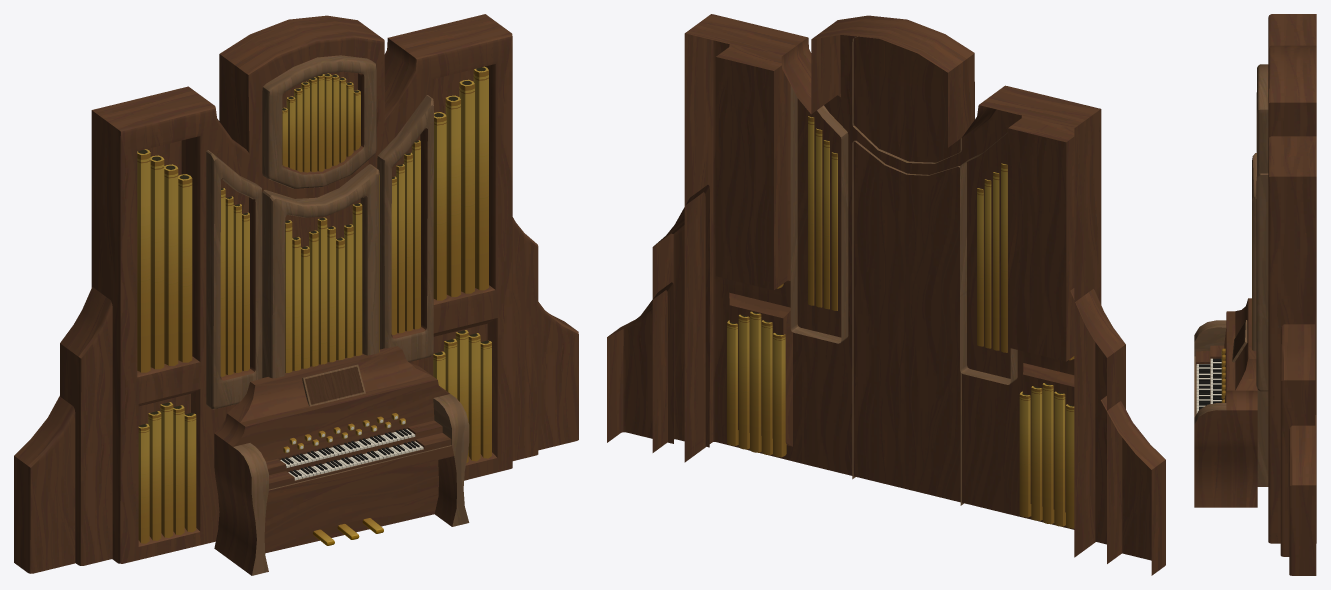
File: organ.glb
The picture shows the model from 3 angles, left to right: view 1: azimuth 30°, elevation 25°; view 2: azimuth 150°, elevation 25°; view 3: azimuth 270°, elevation 25°; orthographic projection. The views are drawn at different scales.
Visible parts, largest first — view 1: Organ_Pipes, Organ_Keyboard; view 2: Organ_Pipes; view 3: Organ_Pipes, Organ_Keyboard.
Part boxes in pixels (x1,y1,x2,y2): Organ_Pipes: [14, 14, 578, 573]; Organ_Keyboard: [214, 346, 469, 575]; Organ_Pipes: [607, 14, 1165, 575]; Organ_Pipes: [1252, 14, 1316, 575]; Organ_Keyboard: [1194, 298, 1257, 507].
Bounding box in the file's own units: 6.15 × 5.11 × 1.4.
1 material, 1 textured.
